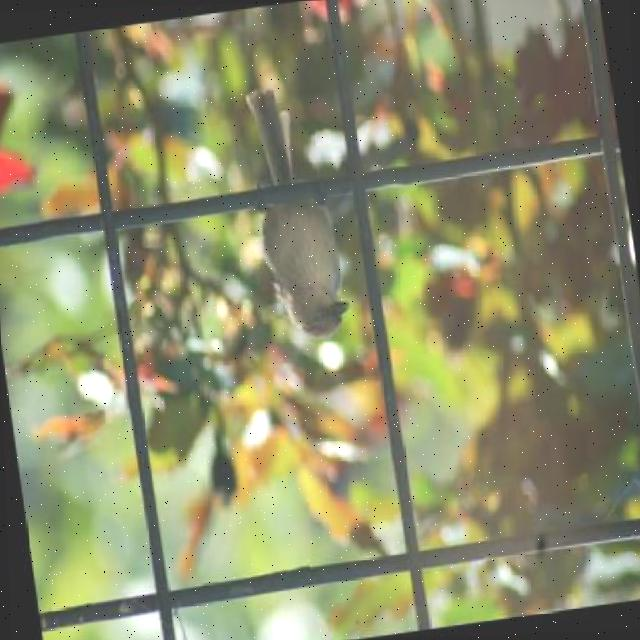sparrow: (237, 74, 360, 345)
